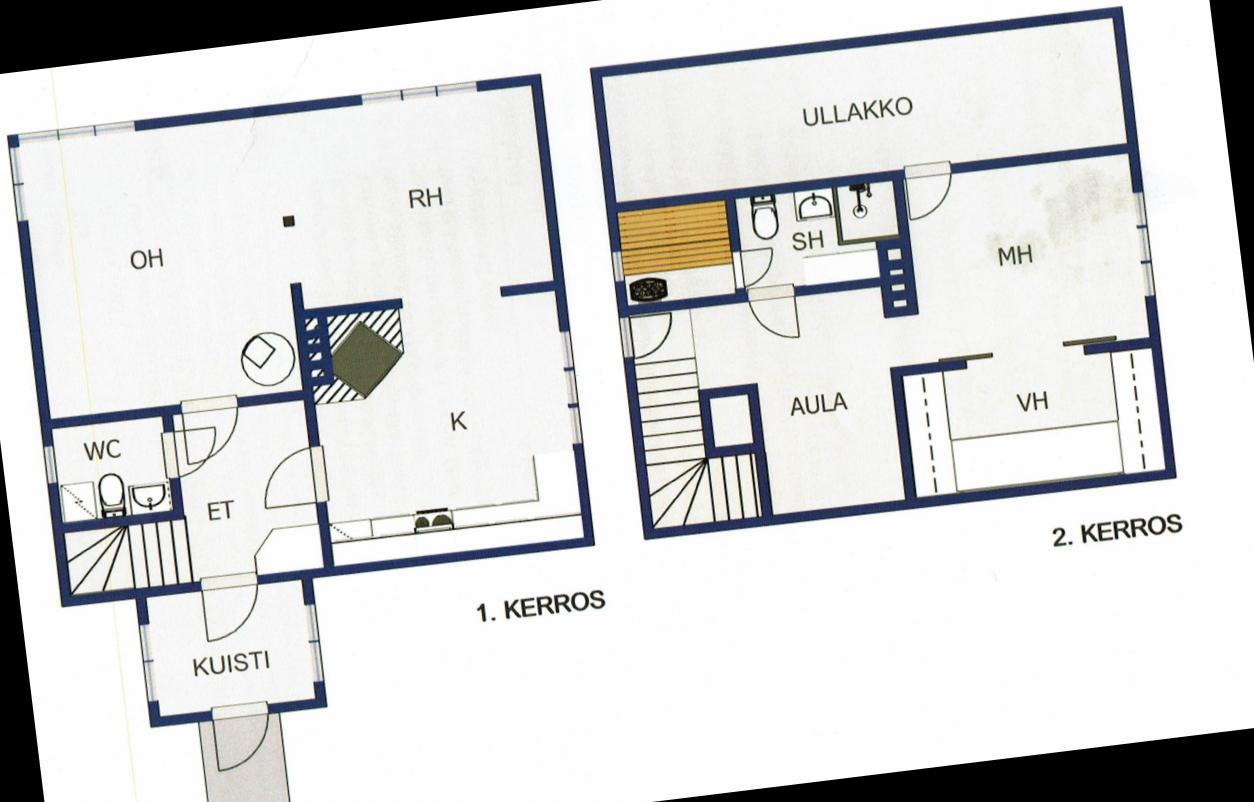door: (197, 569, 270, 650), (207, 696, 279, 774), (258, 443, 332, 515), (178, 392, 247, 466), (742, 278, 808, 348), (901, 156, 966, 221), (612, 304, 684, 362), (156, 423, 224, 482), (727, 244, 780, 296)
window: (434, 68, 489, 104), (136, 659, 167, 713), (552, 320, 583, 371), (562, 402, 592, 453), (350, 86, 404, 114), (13, 124, 64, 153), (92, 113, 142, 142), (400, 76, 441, 111), (37, 440, 64, 493), (1124, 181, 1153, 230), (306, 638, 331, 694), (54, 117, 98, 148), (1138, 255, 1164, 304), (3, 140, 30, 186), (10, 179, 35, 228), (559, 365, 587, 408), (133, 614, 156, 664), (301, 599, 324, 643), (1134, 224, 1156, 267), (608, 245, 627, 286)
